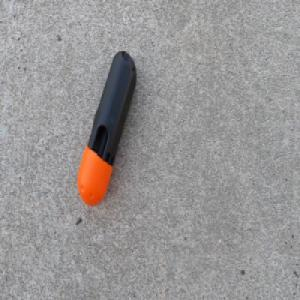PlasticPart: (75, 49, 136, 207)
